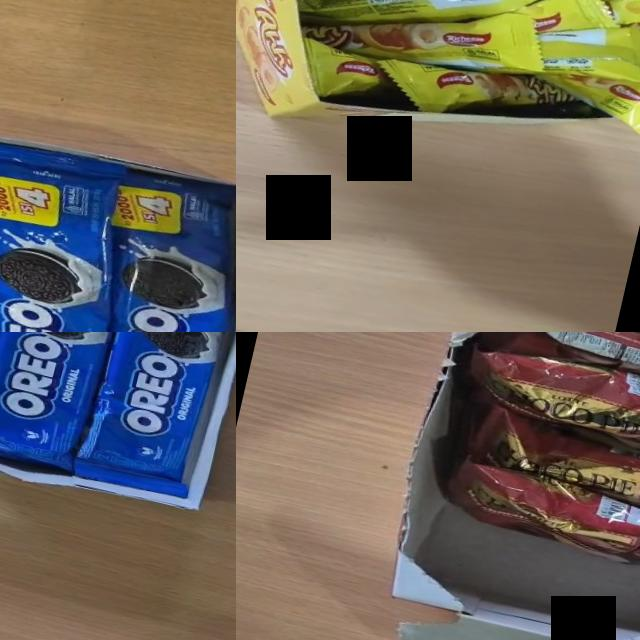Ahh: (302, 13, 540, 72), (379, 60, 575, 112), (542, 72, 640, 135), (538, 27, 640, 81), (298, 0, 533, 22), (303, 39, 384, 96), (517, 0, 614, 33), (604, 0, 640, 28)
Chocopie: (435, 449, 640, 583), (456, 335, 640, 473), (457, 400, 640, 535), (504, 332, 640, 392)
Oreo: (0, 130, 176, 332), (56, 159, 236, 332), (71, 332, 236, 503), (0, 332, 150, 482)
